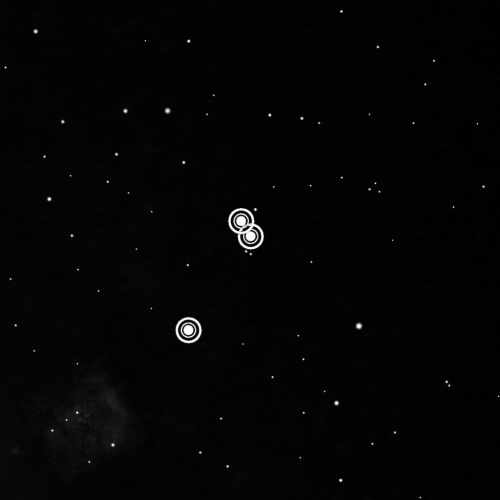canis_minor: (171, 200, 270, 352)
